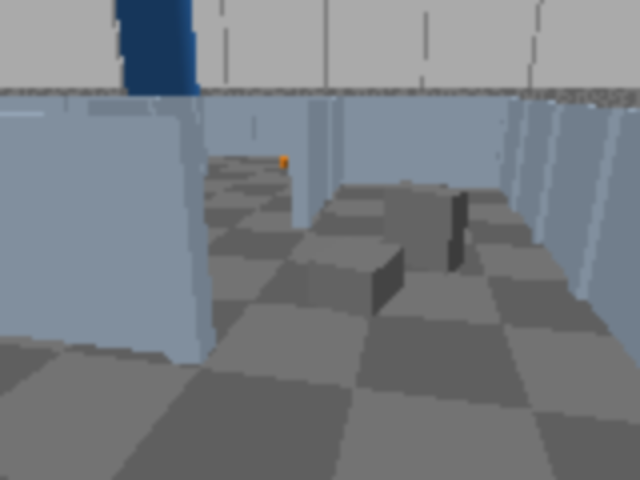obstacle: (381, 181, 470, 275)
